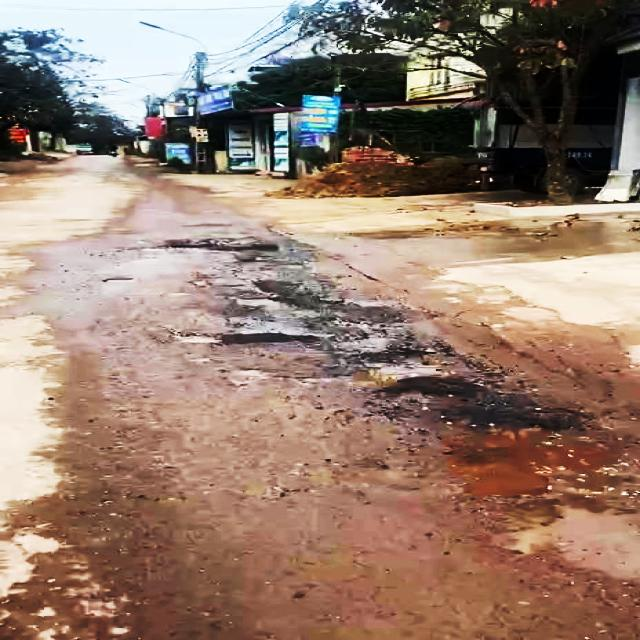pothole: (409, 408, 640, 530), (192, 291, 400, 353), (315, 358, 484, 414), (162, 240, 288, 260), (164, 330, 224, 345)
